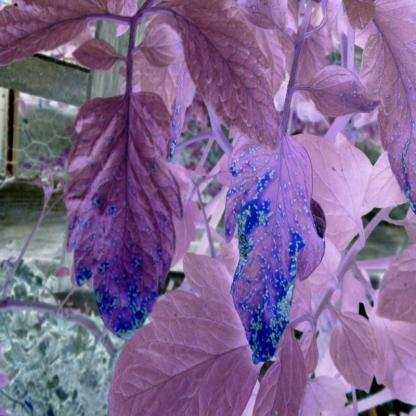Tomato Septoria leaf spot: (63, 92, 189, 350), (224, 128, 328, 370)
